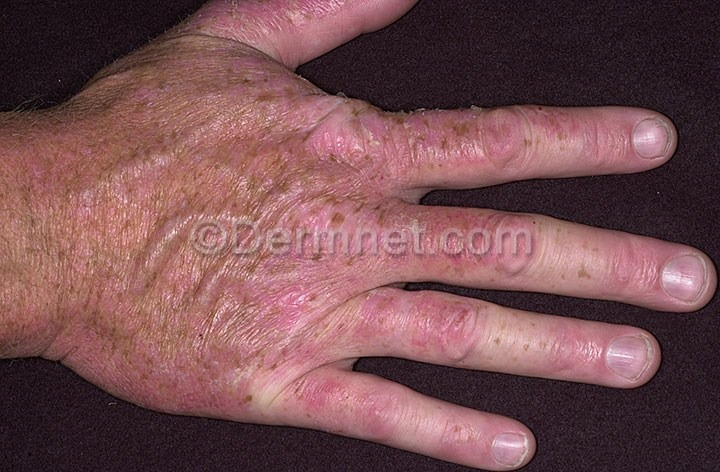Melasma: (226, 72, 573, 186), (152, 261, 346, 424), (356, 281, 477, 364), (184, 0, 358, 51), (577, 230, 660, 309), (536, 318, 603, 379)
